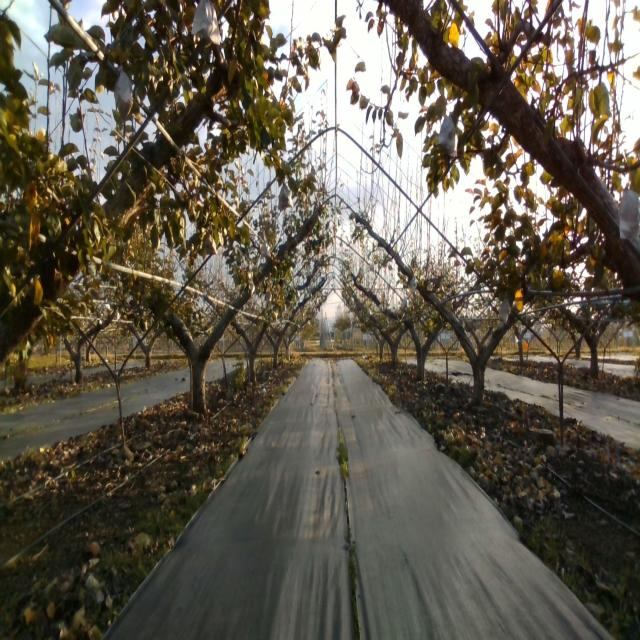pearbags: (191, 0, 221, 47), (618, 184, 640, 240), (114, 65, 134, 124), (435, 112, 459, 158), (278, 180, 293, 212), (202, 233, 218, 256), (498, 298, 511, 323)
